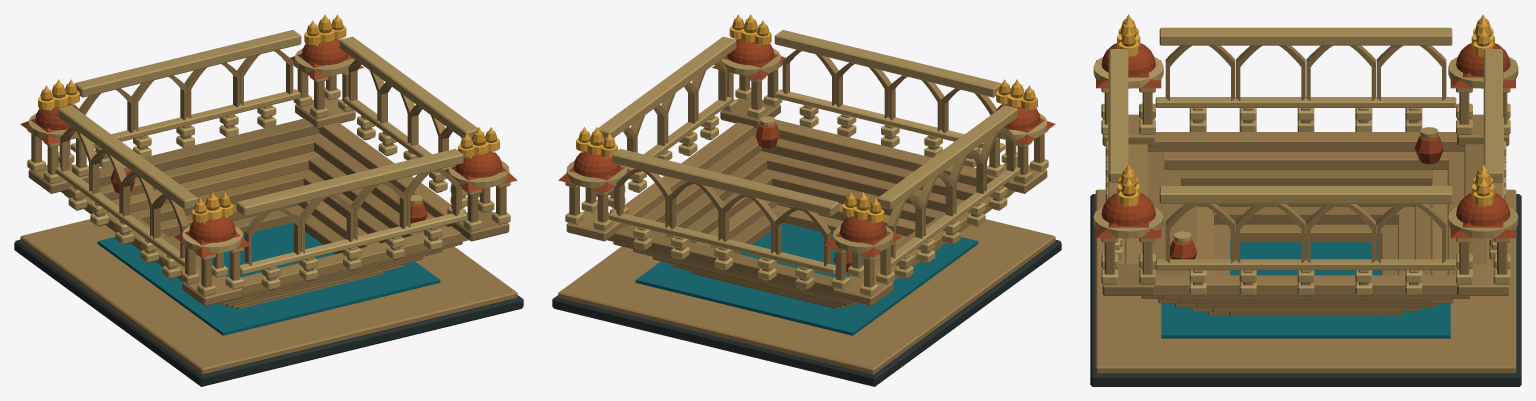
3 renders of one model, left to right at view 1: azimuth 30°, elevation 25°; view 2: azimuth 150°, elevation 25°; view 3: azimuth 270°, elevation 25°, orthographic. The views are drawn at different scales.
Visible parts, largest first — view 1: stepwell_level5_structure, stepwell_level5_metal; view 2: stepwell_level5_structure, stepwell_level5_metal; view 3: stepwell_level5_structure, stepwell_level5_metal.
Boxes of the visible parts, bbox=[...] form: stepwell_level5_structure: bbox=[14, 18, 523, 386]; stepwell_level5_metal: bbox=[38, 14, 499, 222]; stepwell_level5_structure: bbox=[552, 18, 1061, 386]; stepwell_level5_metal: bbox=[576, 14, 1037, 222]; stepwell_level5_structure: bbox=[1090, 19, 1521, 386]; stepwell_level5_metal: bbox=[1117, 14, 1494, 206].
Size of the model in its own units: 5.6 by 2.93 by 5.6.
